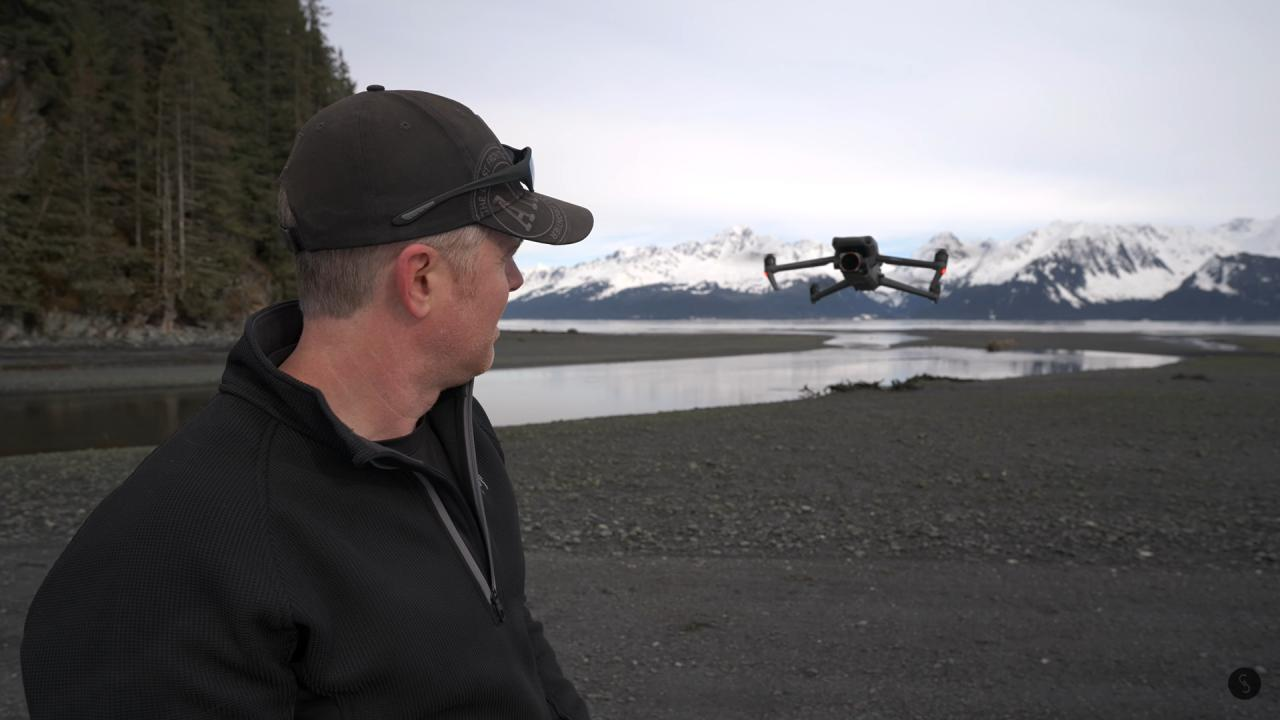Drone: (742, 222, 968, 318)
